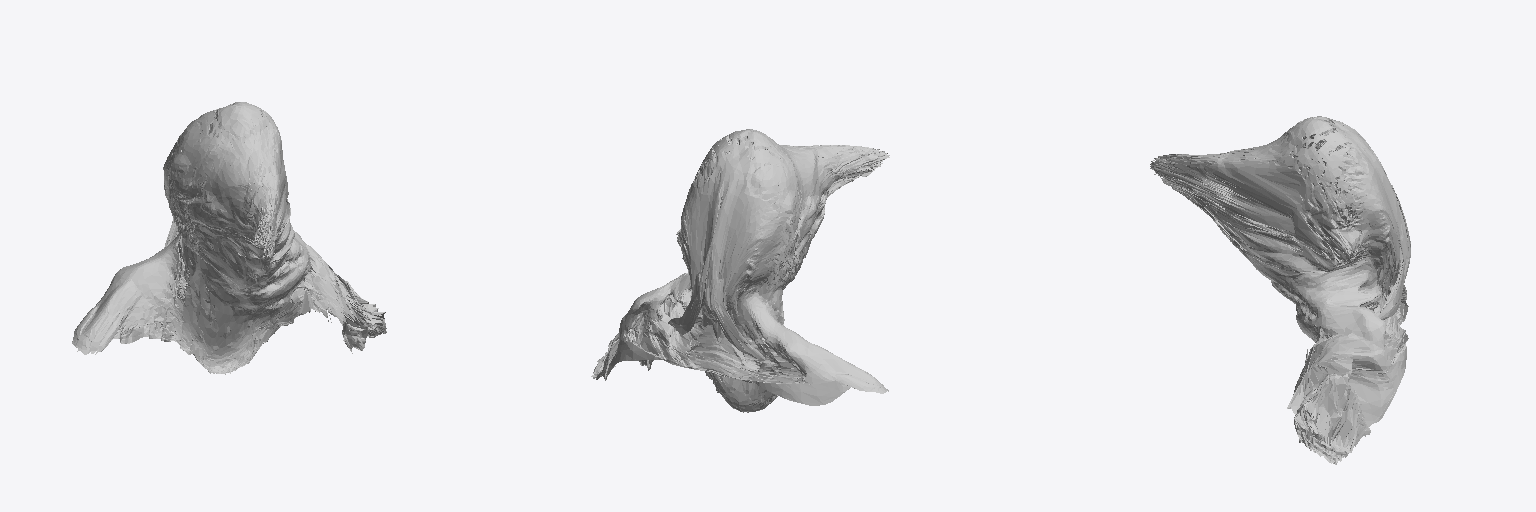
File: sam_crowMask.obj
3 renders of one model, left to right at view 1: azimuth 30°, elevation 25°; view 2: azimuth 150°, elevation 25°; view 3: azimuth 270°, elevation 25°, orthographic.
Visible parts, largest first — view 1: Group48944; view 2: Group48944; view 3: Group48944.
Part boxes in pixels (left/top/right/bottom): Group48944: left=72, top=102, right=386, bottom=374; Group48944: left=591, top=129, right=889, bottom=412; Group48944: left=1150, top=116, right=1410, bottom=464.
Size of the model in its own units: 2.49 by 2.18 by 1.88.